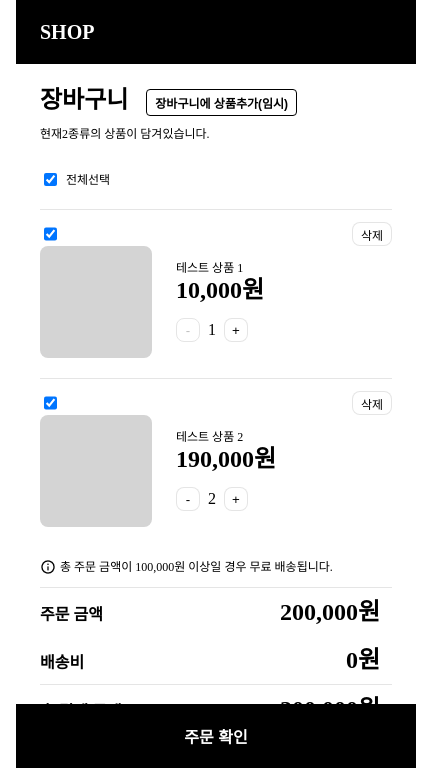
Test: CartPage › 상품 1개라도 체크박스가 해제되면 전체 체크박스가 해제된다
Check: the text "테스트 상품 1" is shown, box top-left (176, 262), bottom-right (243, 274)
Step 1. Click the 2nd checkbox → (50, 234), box top-left (44, 225), bottom-right (57, 243)
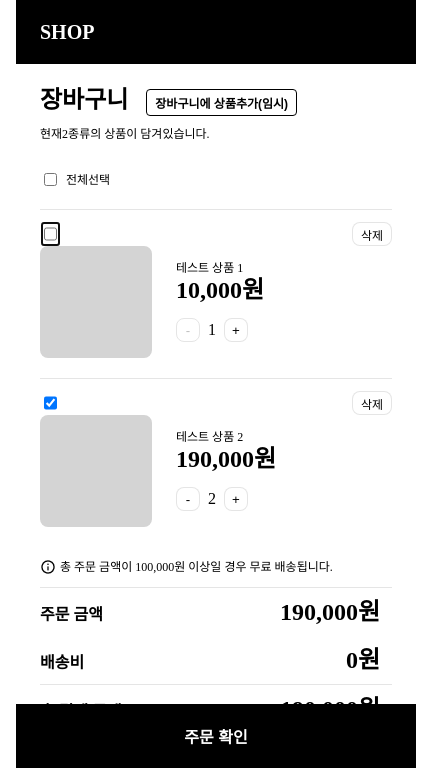
Check: the checkbox labelled "전체선택" is not checked, box top-left (44, 173), bottom-right (57, 186)
